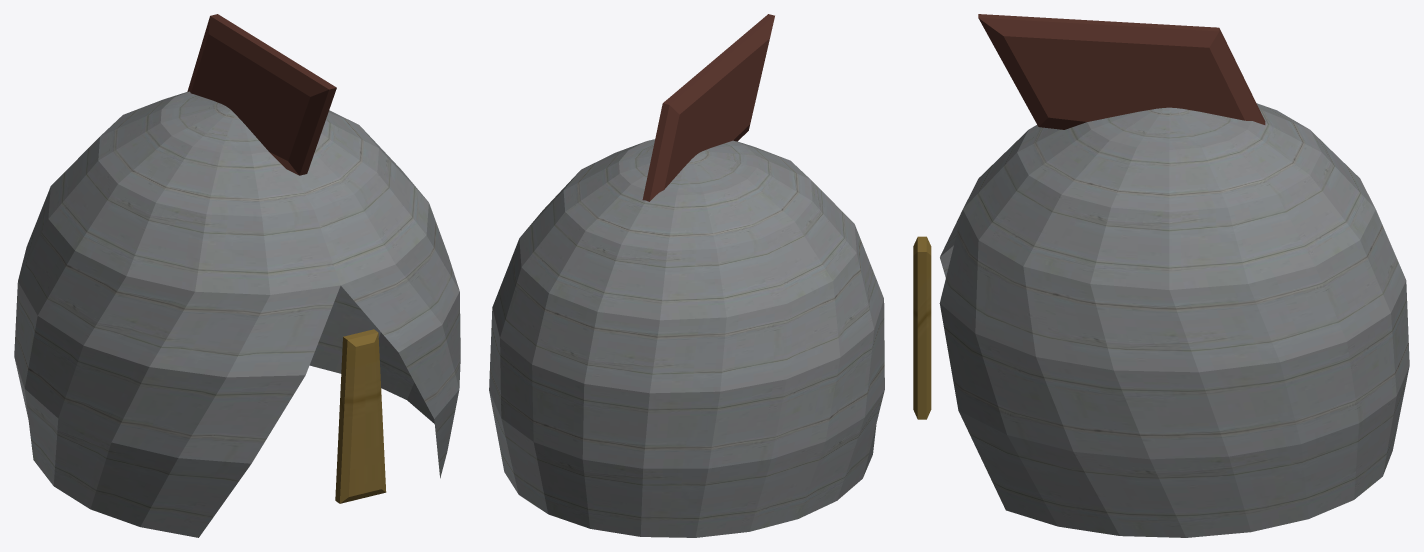
File: eq_past_2_head.glb
The picture shows the model from 3 angles, left to right: view 1: azimuth 30°, elevation 25°; view 2: azimuth 150°, elevation 25°; view 3: azimuth 270°, elevation 25°; orthographic projection. The views are drawn at different scales.
Visible parts, largest first — view 1: eq_past_2_head; view 2: eq_past_2_head; view 3: eq_past_2_head.
Boxes of the visible parts, x1,y1,x2,y2 form: eq_past_2_head: (14, 14, 460, 537); eq_past_2_head: (489, 14, 884, 537); eq_past_2_head: (913, 14, 1409, 537).
Bounding box in the file's own units: 0.2944 × 0.3184 × 0.3294.
3 materials, 3 textured.
